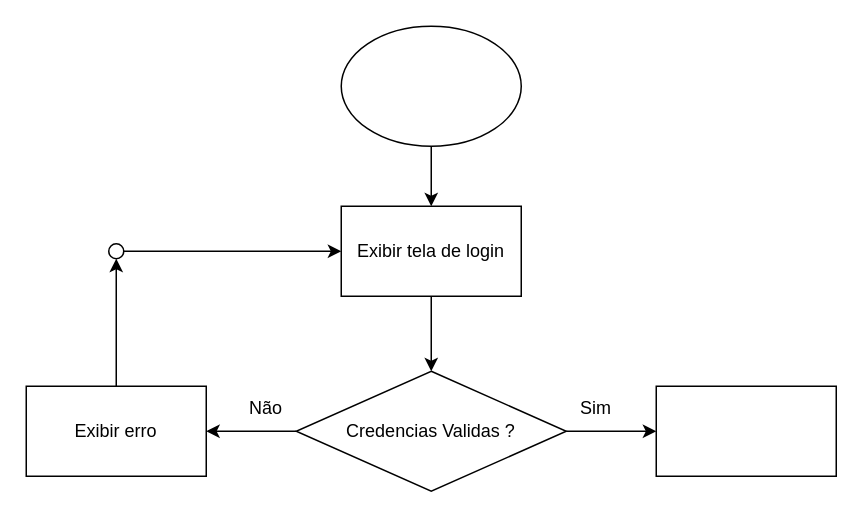
The diagram is 863 pixels wide and 518 high, and some of its shapes have lost their labels. Each missing label, with the centre of its shape:
"INICIO" belongs at [430,85].
"Tipo de usuário ?" belongs at [745,430].
